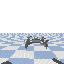drone: (23, 36, 49, 49)
